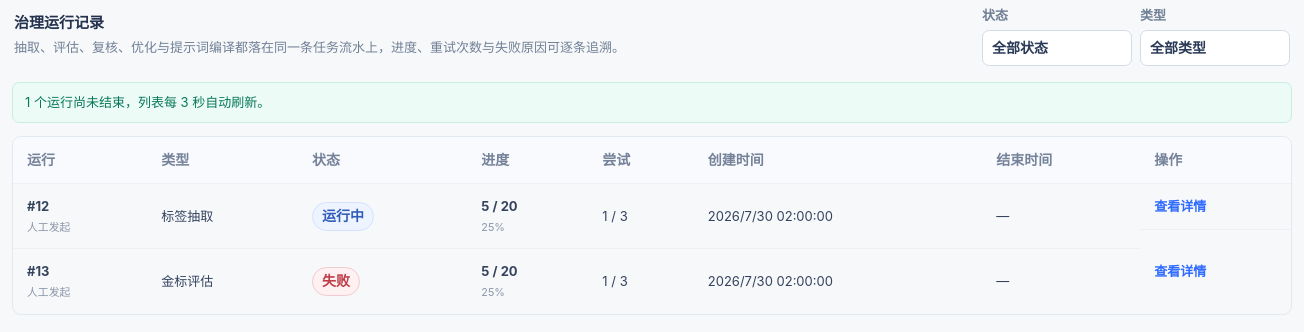
Test: RunsPanel › keeps polling when the running job is hidden by the active filter
The image size is (1304, 332).
// fireEvent 而不是 userEvent：后者的默认延迟在 fake timers 下不会自己推进。
Select "失败" in the dropdown named "按状态筛选运行": point(1057, 48) x1=982 y1=30 x2=1132 y2=66
Wait 3100 ms
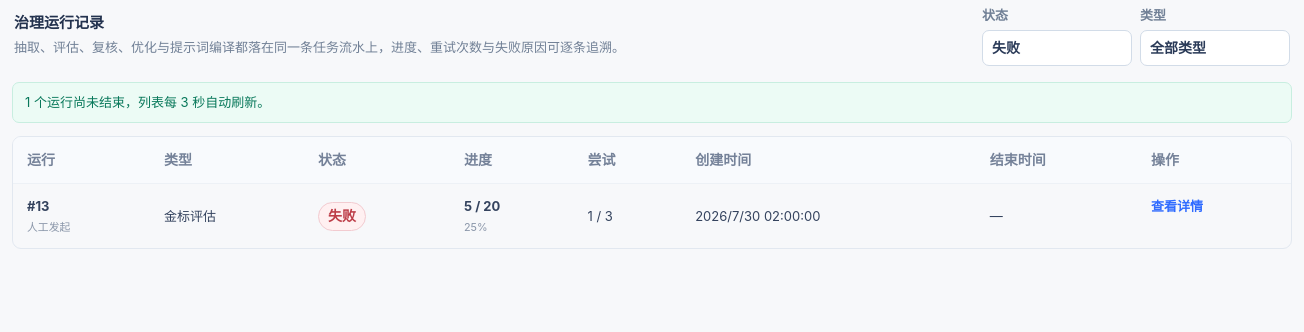
Check: the text "#12" is gone
